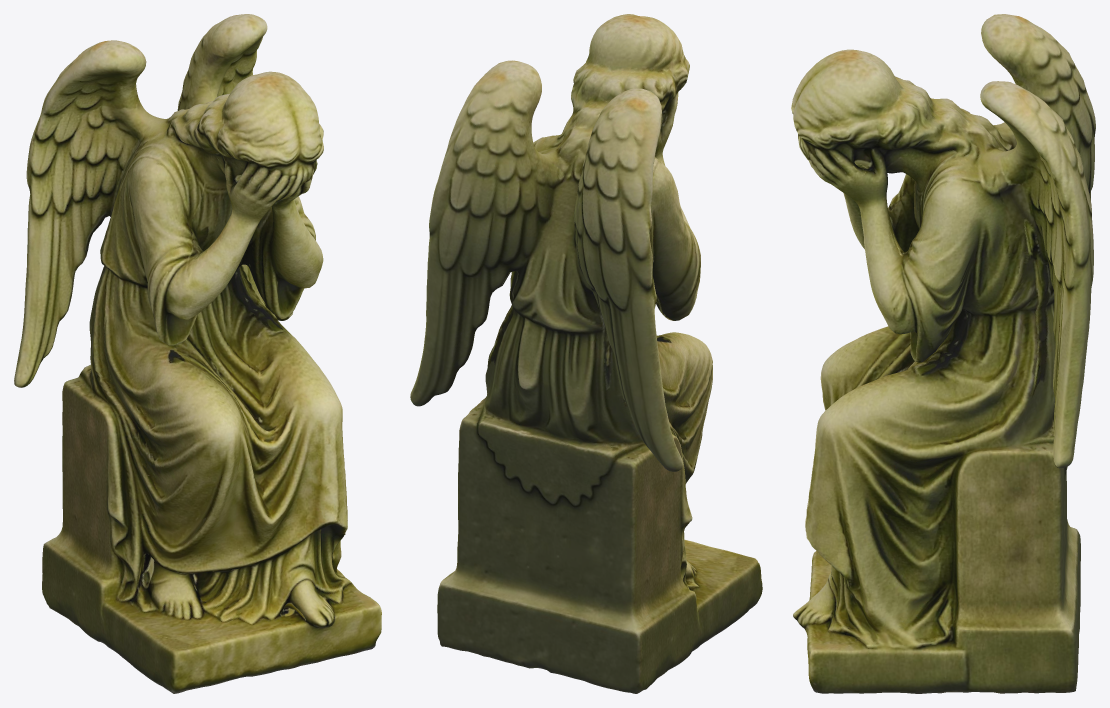
Rendered from weeping_angel_statue.glb.
The picture shows the model from 3 angles, left to right: view 1: azimuth 30°, elevation 25°; view 2: azimuth 150°, elevation 25°; view 3: azimuth 270°, elevation 25°; orthographic projection. The views are drawn at different scales.
Visible parts, largest first — view 1: Object_4; view 2: Object_4; view 3: Object_4.
Part boxes in pixels (x1,y1,x2,y2): Object_4: [14, 14, 381, 693]; Object_4: [410, 14, 762, 693]; Object_4: [791, 14, 1095, 693].
Size of the model in its own units: 0.9582 by 1.91 by 0.8906.
Materials: 1 (1 with a texture image).
